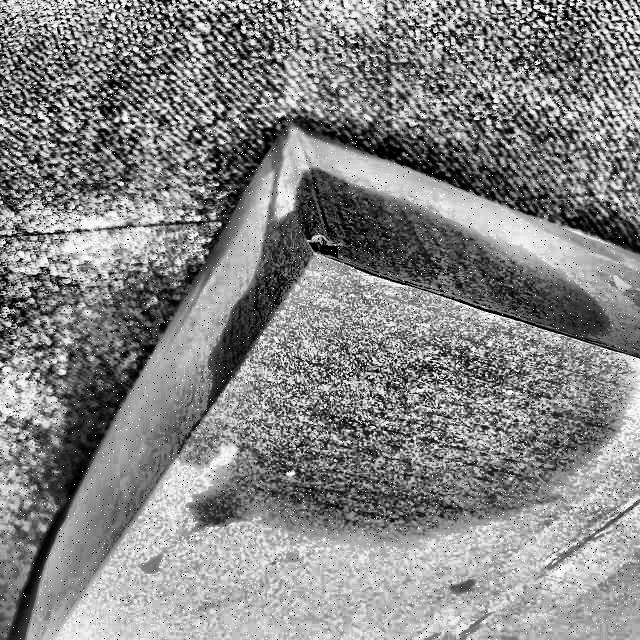box: (1, 97, 639, 640)
wet: (194, 178, 638, 550)
